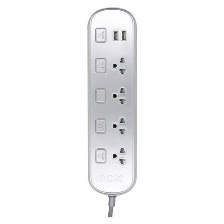three_eye_plug: (85, 5, 139, 198)
